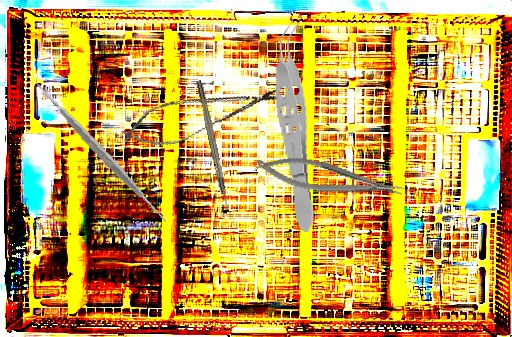Hook Surgical: (196, 79, 231, 214)
Micro Scissor: (115, 71, 288, 158)
Needle Holder: (253, 146, 406, 212)
Spatula Surgical: (19, 69, 183, 234)
Tissue Forceps: (267, 18, 324, 234)
